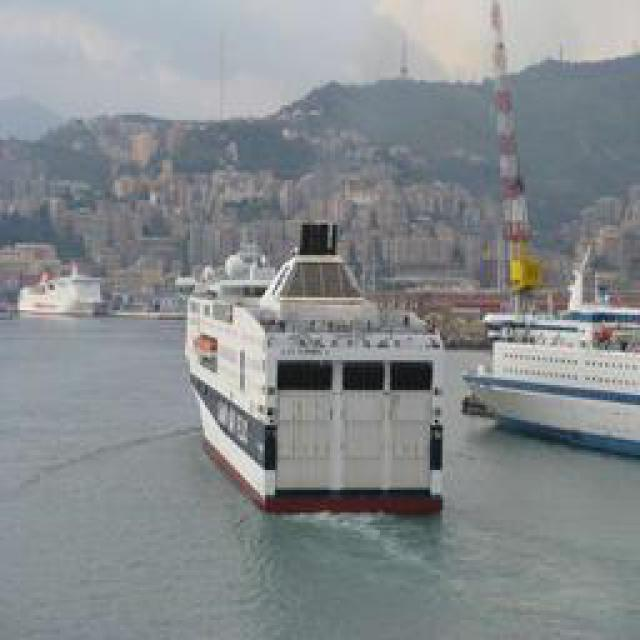Ship: (191, 225, 449, 510)
